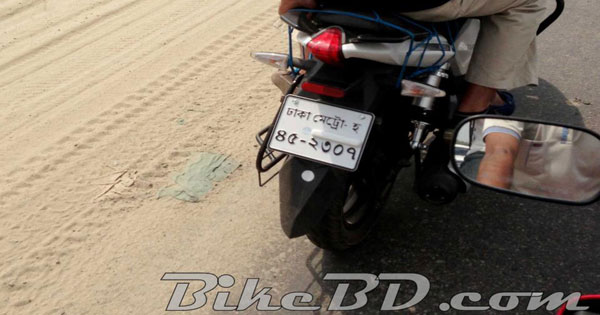registration_plate: (267, 93, 376, 173)
